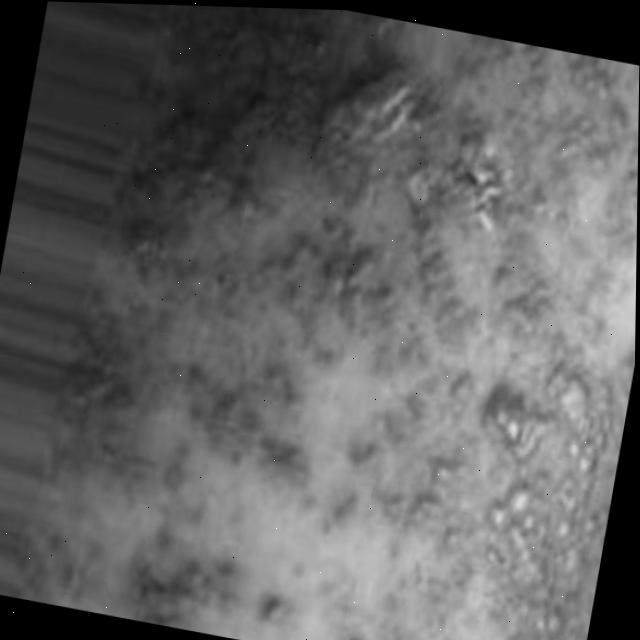Shingles: (69, 2, 640, 640)
